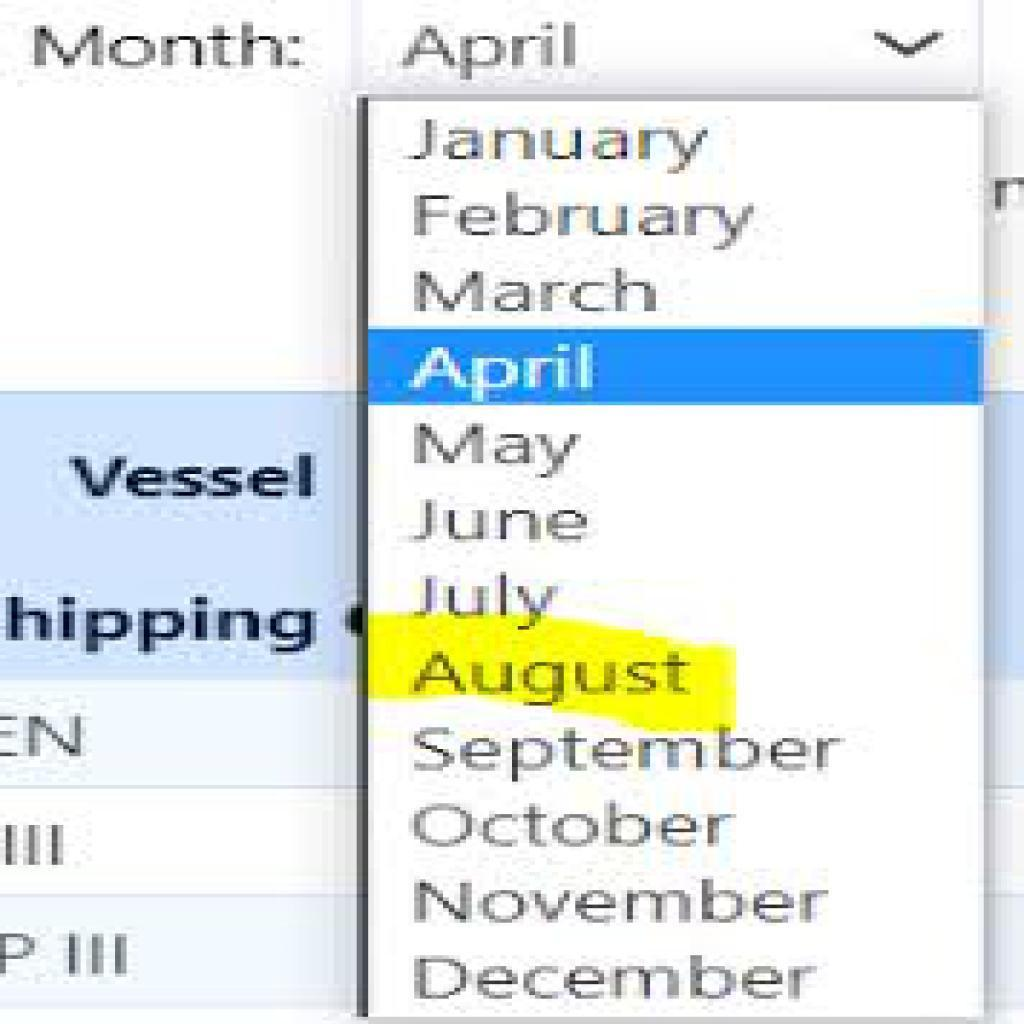dropdown: (358, 1, 984, 96)
